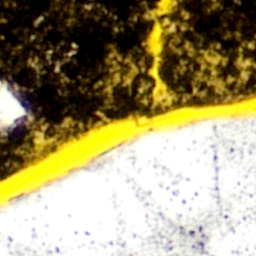cement_matrix: (0, 0, 162, 179), (159, 0, 255, 104), (205, 54, 218, 66), (240, 59, 248, 71), (214, 81, 223, 89)
cracks: (0, 0, 255, 205), (206, 55, 217, 65), (241, 60, 247, 70), (215, 82, 222, 88)
gravel_crushed_stones: (0, 114, 255, 255), (0, 81, 28, 132)
